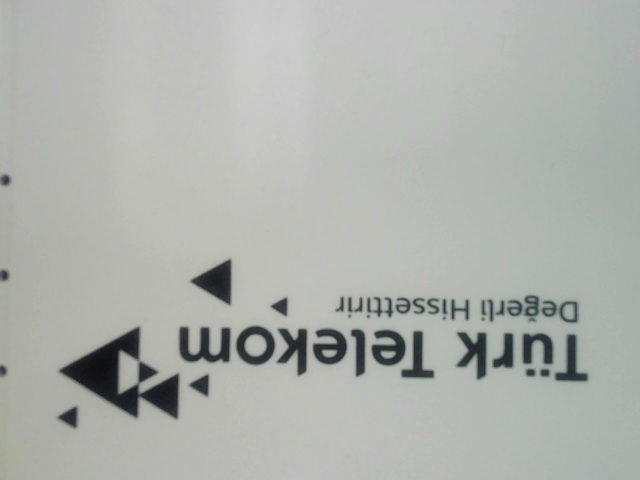AQ_TURKTelekom: (38, 254, 591, 436)
